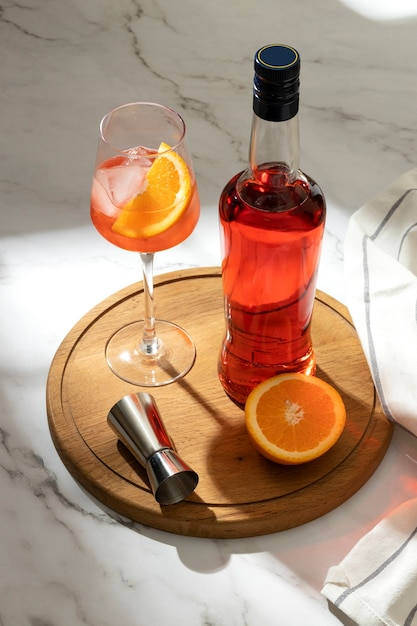alcohol: (215, 42, 326, 408), (87, 97, 204, 390)
